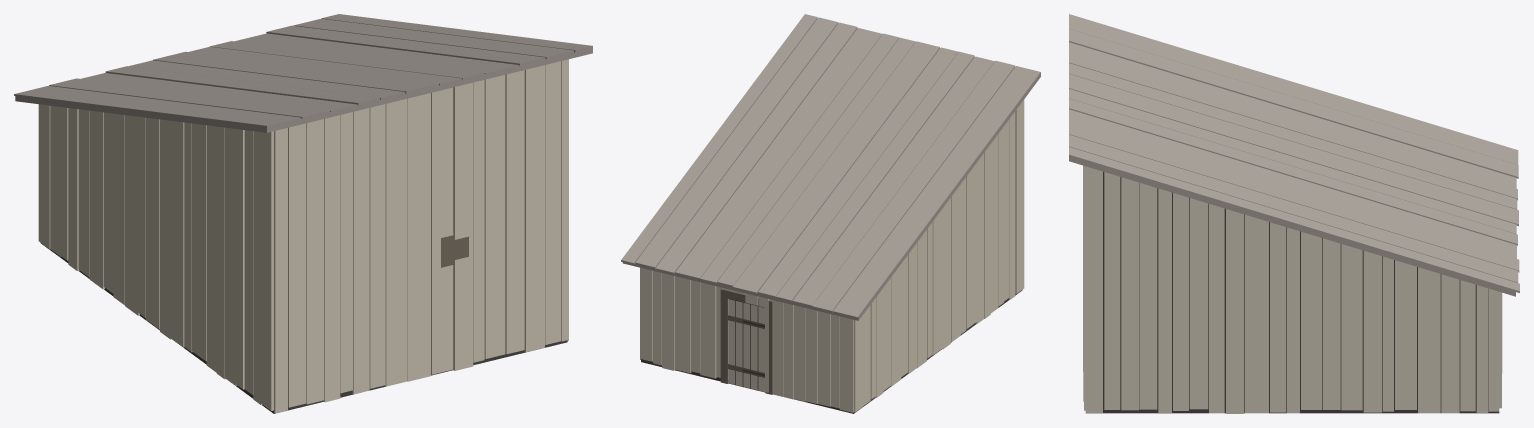
File: recon_1835_west_041__inferred_1835.glb
The picture shows the model from 3 angles, left to right: view 1: azimuth 30°, elevation 25°; view 2: azimuth 150°, elevation 25°; view 3: azimuth 270°, elevation 25°; orthographic projection. The views are drawn at different scales.
Visible parts, largest first — view 1: recon_1835_west_041__inferred_1835; view 2: recon_1835_west_041__inferred_1835; view 3: recon_1835_west_041__inferred_1835.
Part boxes in pixels (bbox=[...]): recon_1835_west_041__inferred_1835: bbox=[14, 14, 592, 413]; recon_1835_west_041__inferred_1835: bbox=[621, 14, 1040, 413]; recon_1835_west_041__inferred_1835: bbox=[1069, 14, 1519, 413].
Bounding box in the file's own units: 5.41 × 4.75 × 7.3.
